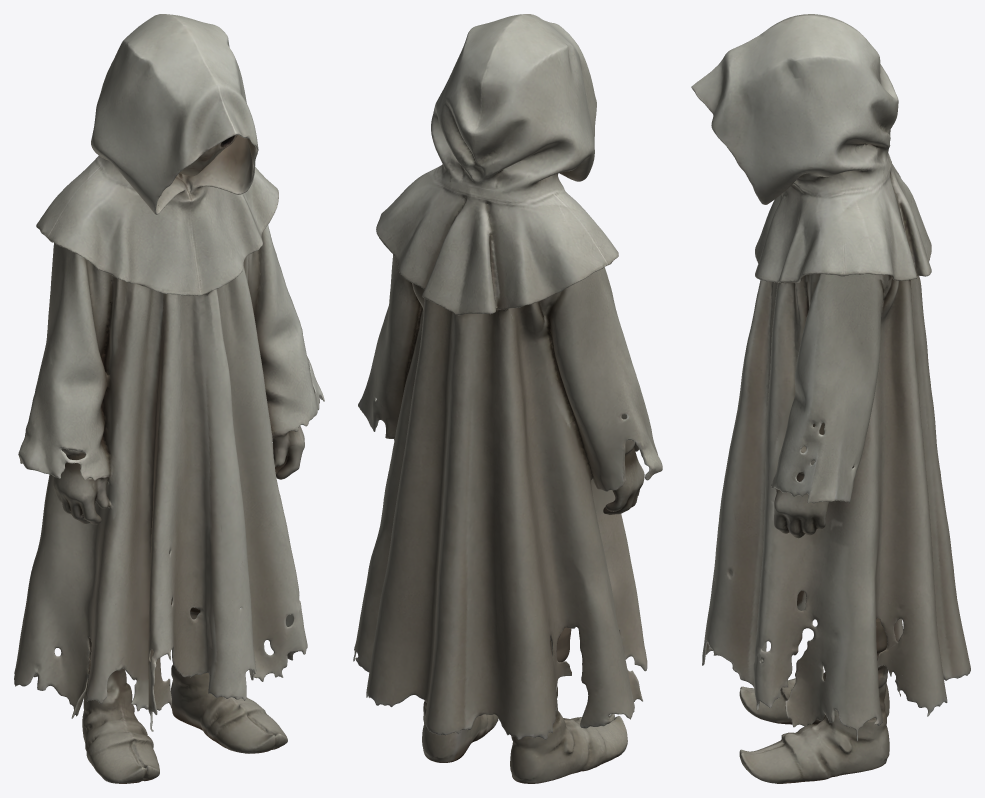
Rendered from Meshy_AI_The_Hollow_Pilgrim_0922031207_texture.fbx.
The picture shows the model from 3 angles, left to right: view 1: azimuth 30°, elevation 25°; view 2: azimuth 150°, elevation 25°; view 3: azimuth 270°, elevation 25°; orthographic projection.
Parts seen in each view (by area): view 1: Mesh_0; view 2: Mesh_0; view 3: Mesh_0.
Boxes of the visible parts, x1,y1,x2,y2 form: Mesh_0: [14, 14, 324, 783]; Mesh_0: [353, 14, 662, 783]; Mesh_0: [691, 14, 970, 783].
Bounding box in the file's own units: 80.65 × 190 × 66.28.
1 material, 1 textured.
